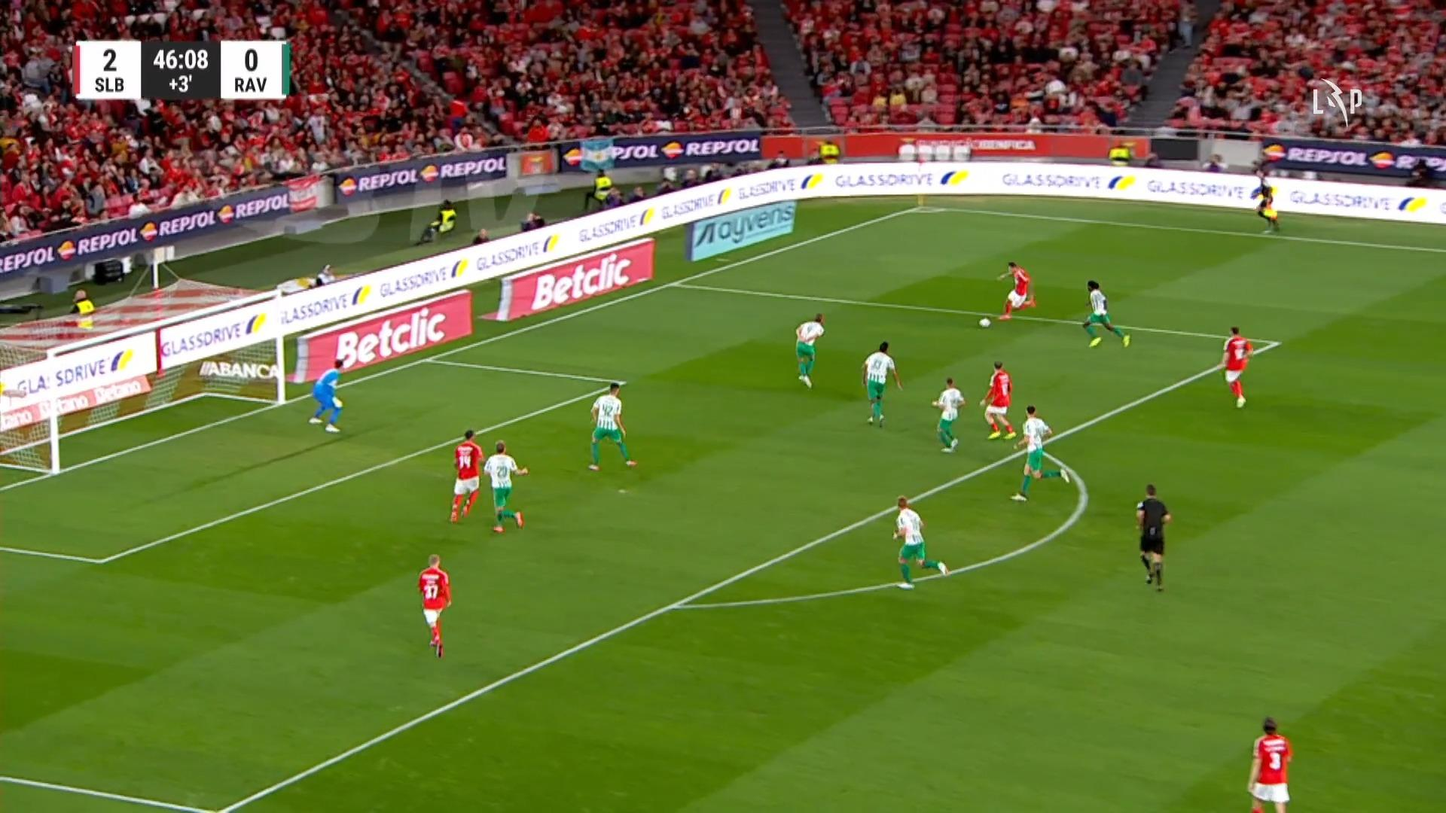ball: (978, 317, 990, 327), (954, 397, 965, 406)
goalkeeper: (307, 358, 346, 433)
player: (1009, 403, 1069, 501), (891, 495, 948, 589), (587, 379, 637, 470), (1246, 715, 1292, 811), (483, 440, 529, 532), (860, 340, 902, 428), (417, 553, 451, 659), (448, 428, 484, 522), (1081, 279, 1130, 348), (979, 360, 1016, 440), (1219, 325, 1253, 408), (931, 376, 965, 452), (995, 259, 1036, 321), (794, 312, 825, 388)
referee: (1134, 483, 1171, 591), (1249, 169, 1280, 234)
